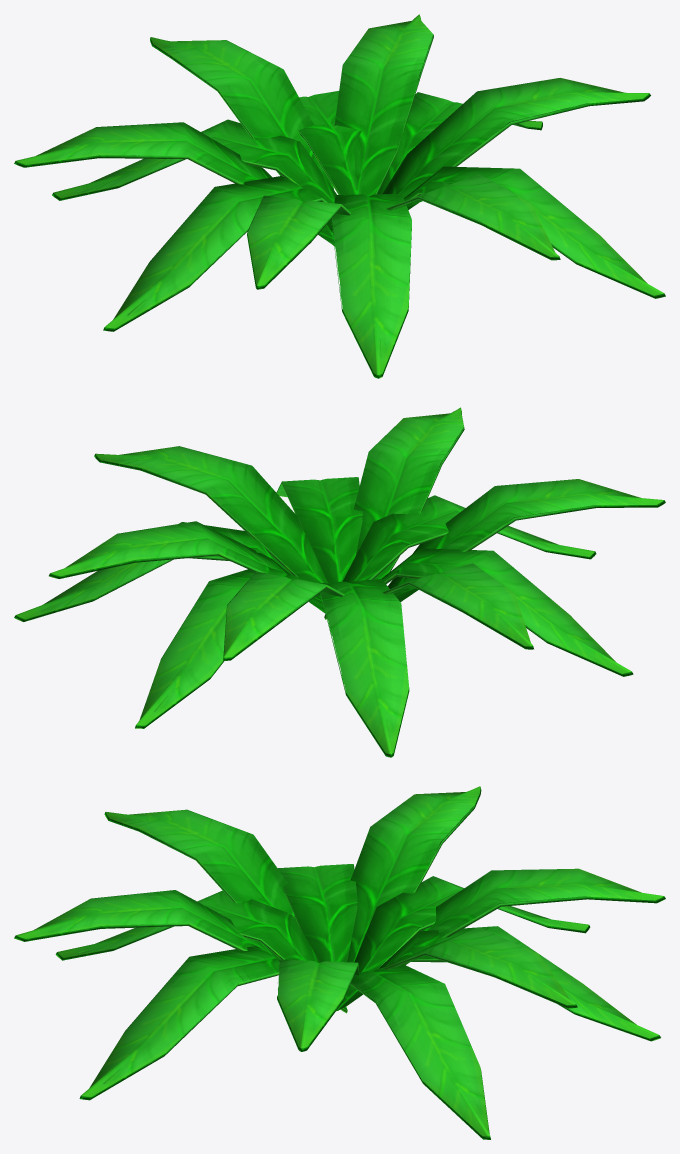
The model's file is Matinho.dae.
3 renders of one model, top to bottom at view 1: azimuth 30°, elevation 25°; view 2: azimuth 150°, elevation 25°; view 3: azimuth 270°, elevation 25°, orthographic. The views are drawn at different scales.
Visible parts, largest first — view 1: Cilindro.003; view 2: Cilindro.003; view 3: Cilindro.003.
Boxes of the visible parts, <box> form: Cilindro.003: <box>14,14,665,378</box>; Cilindro.003: <box>14,407,665,757</box>; Cilindro.003: <box>14,786,665,1139</box>.
Size of the model in its own units: 1.47 by 1.51 by 0.3015.
